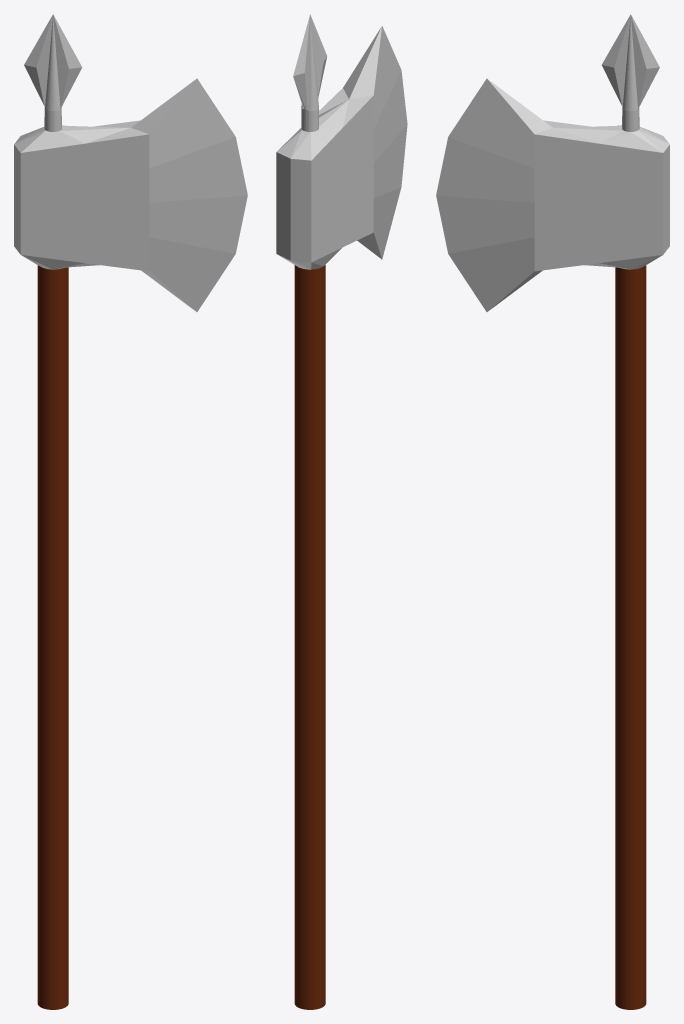
File: Halberd.fbx
3 renders of one model, left to right at view 1: azimuth 90°, elevation 25°; view 2: azimuth 150°, elevation 25°; view 3: azimuth 270°, elevation 25°, orthographic.
Visible parts, largest first — view 1: Halberd; view 2: Halberd; view 3: Halberd.
Boxes of the visible parts, <box> form: Halberd: <box>14,14,247,1009</box>; Halberd: <box>276,14,407,1009</box>; Halberd: <box>436,14,669,1009</box>.
Bounding box in the file's own units: 10.43 × 281 × 60.23.
